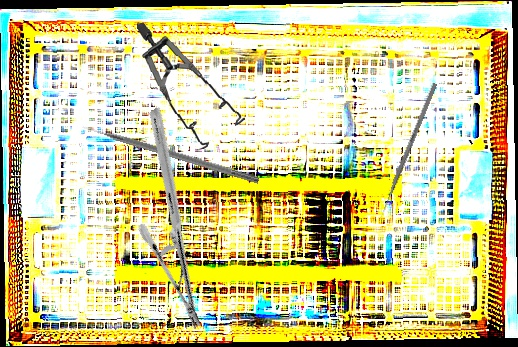Hook Surgical: (81, 121, 261, 184)
Needle Holder: (67, 105, 284, 332)
Pusher: (377, 82, 438, 221)
Speculum: (137, 16, 247, 153)
